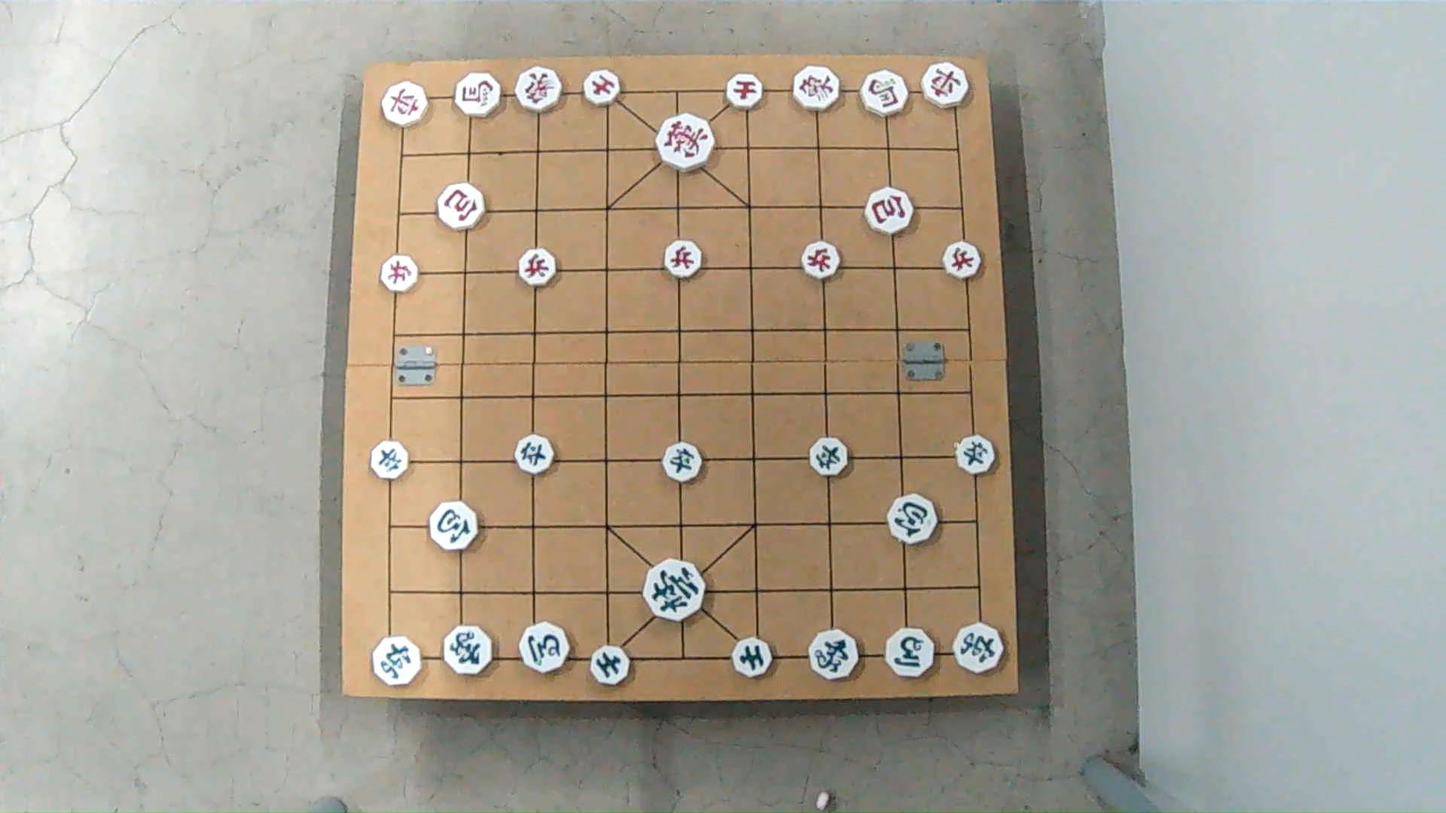cha_green: (953, 623, 1005, 674), (373, 638, 423, 687)
cha_red: (920, 60, 970, 109), (380, 84, 429, 125)
jol_green: (660, 443, 701, 481), (955, 438, 997, 474), (371, 442, 411, 479), (517, 437, 557, 474), (809, 440, 850, 476)
jol_red: (661, 243, 701, 279), (943, 245, 984, 280), (382, 257, 421, 293), (801, 244, 840, 279), (520, 251, 559, 286)
ma_green: (518, 622, 569, 673), (884, 629, 935, 677)
ma_red: (857, 71, 911, 117), (453, 74, 502, 116)
po_green: (887, 495, 937, 543), (429, 504, 478, 549)
po_red: (865, 188, 915, 232), (438, 184, 487, 228)
sa_green: (730, 635, 774, 679), (590, 648, 629, 686)
sa_red: (725, 76, 764, 110), (582, 70, 621, 103)
sang_green: (811, 629, 862, 683), (444, 624, 491, 679)
sang_red: (513, 64, 566, 115), (792, 65, 842, 111)
wang_green: (645, 562, 704, 619)
wang_red: (658, 116, 718, 169)
